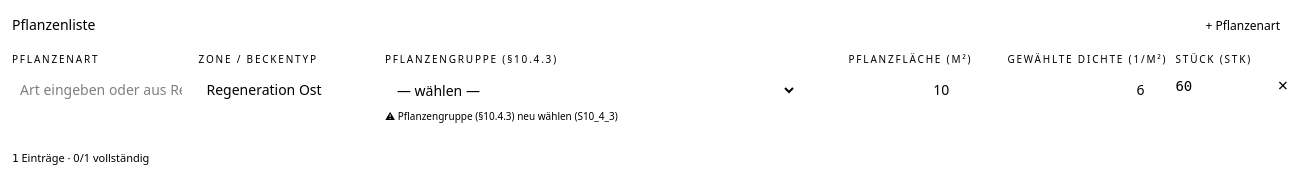
Test: catalog_pick column — picker behaviour inside the RegisterEditor › catalogue unavailable (503) ⇒ notice, free text keeps working, nothing else changes
Type "Typha" into the dropdown named "Pflanzenart" at (101, 90), box [12,76,190,104]
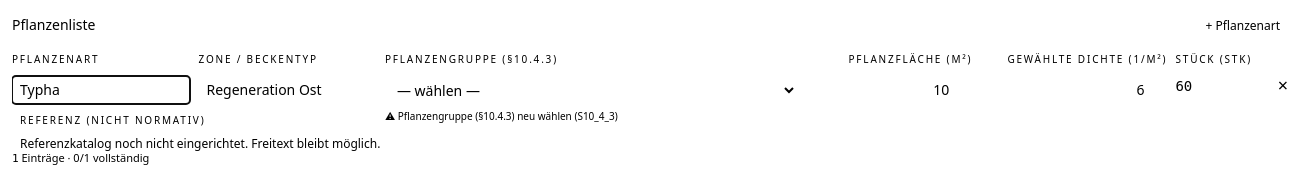
Now the text with test id "catalog-unavailable" reads "Referenzkatalog noch nicht eingerichtet. Freitext bleibt möglich.", box [20,135,380,152]
